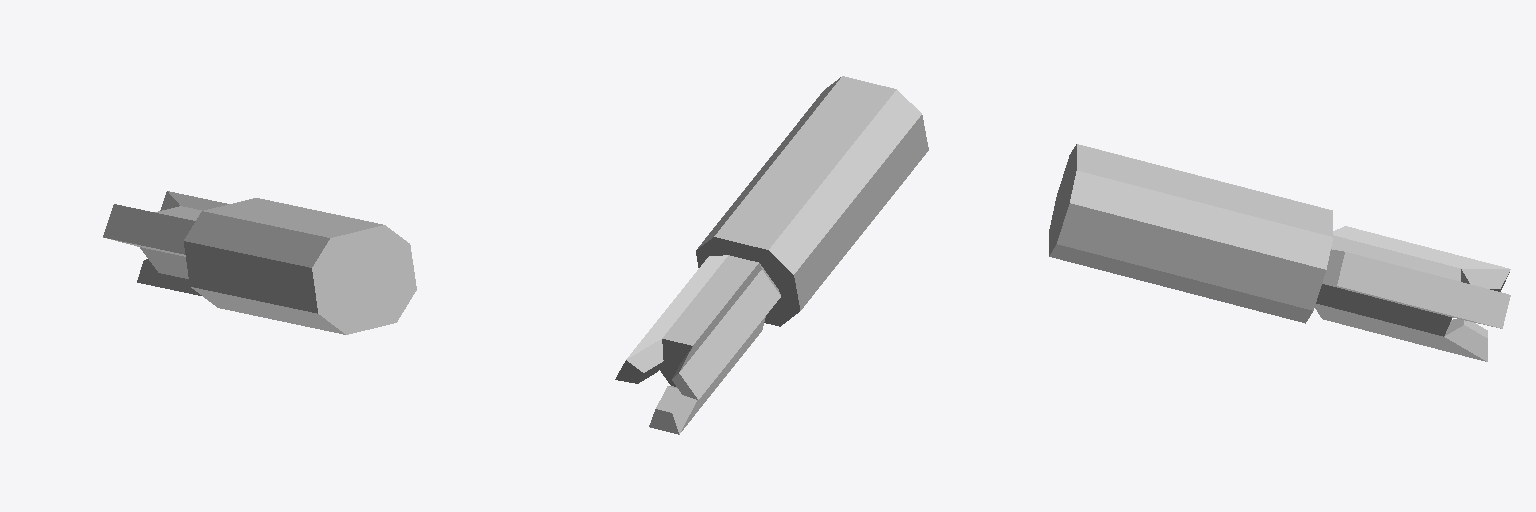
File: RearGun.obj
3 renders of one model, left to right at view 1: azimuth 30°, elevation 25°; view 2: azimuth 150°, elevation 25°; view 3: azimuth 270°, elevation 25°, orthographic.
Parts seen in each view (by area): view 1: RearGun; view 2: RearGun; view 3: RearGun.
Boxes of the visible parts, x1=… form: RearGun: x1=103, y1=191, x2=416, y2=334; RearGun: x1=615, y1=76, x2=928, y2=434; RearGun: x1=1049, y1=144, x2=1510, y2=361.
Size of the model in its own units: 5.89 by 11.27 by 23.87.